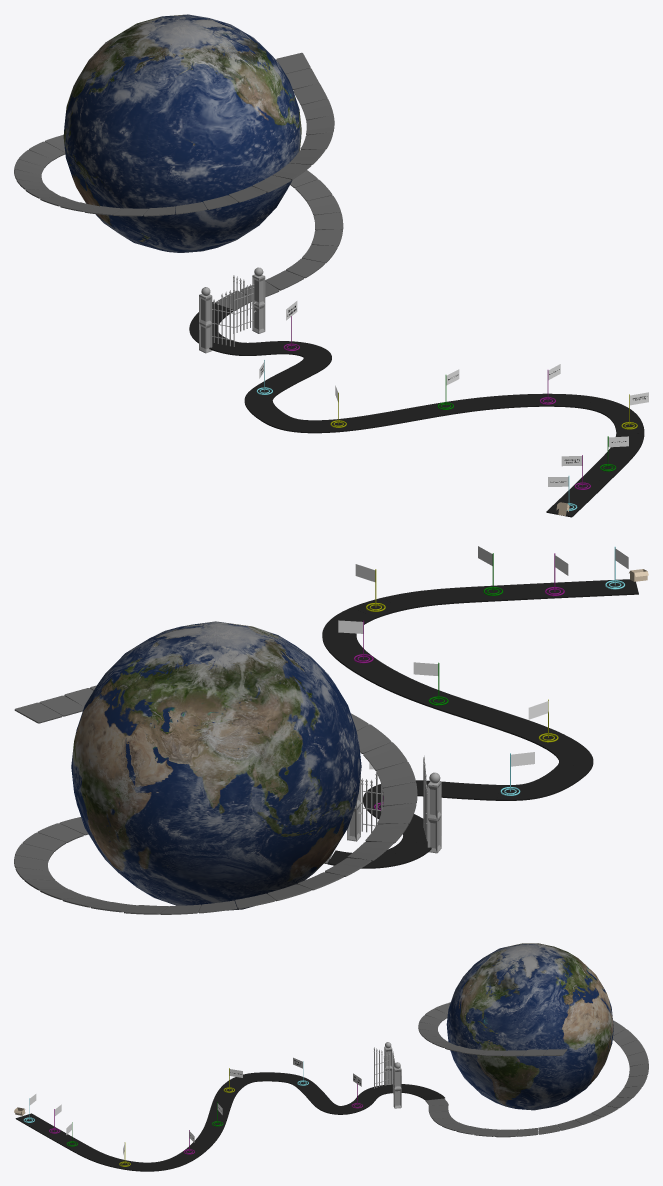
The model's file is chain7.glb.
3 views of the same model, one above another, from view 1: azimuth 30°, elevation 25°; view 2: azimuth 150°, elevation 25°; view 3: azimuth 270°, elevation 25° (orthographic). The views are drawn at different scales.
Parts seen in each view (by area): view 1: Earth, Cube, Box008, Box001__0; view 2: Earth, Cube, Box008, 30, 29, 28, 27, 31, 26, 42, 43, 25; view 3: Earth, Cube, Box001__0.
Boxes of the visible parts, bbox=[...] form: Earth: bbox=[63, 14, 301, 252]; Cube: bbox=[189, 302, 644, 517]; Box008: bbox=[199, 294, 212, 353]; Box001__0: bbox=[252, 274, 265, 333]; Earth: bbox=[71, 621, 361, 910]; Cube: bbox=[322, 579, 638, 868]; Box008: bbox=[427, 781, 441, 853]; 30: bbox=[363, 742, 407, 770]; 29: bbox=[376, 761, 415, 788]; 28: bbox=[382, 782, 417, 806]; 27: bbox=[377, 802, 416, 824]; 31: bbox=[356, 724, 391, 753]; 26: bbox=[365, 823, 408, 843]; 42: bbox=[14, 702, 62, 723]; 43: bbox=[39, 695, 83, 716]; 25: bbox=[347, 842, 393, 861]; Earth: bbox=[446, 943, 613, 1110]; Cube: bbox=[15, 1072, 444, 1171]; Box001__0: bbox=[393, 1067, 401, 1108].
Size of the model in its own units: 4.91 by 3.39 by 11.99.
Materials: 12 (1 with a texture image).
